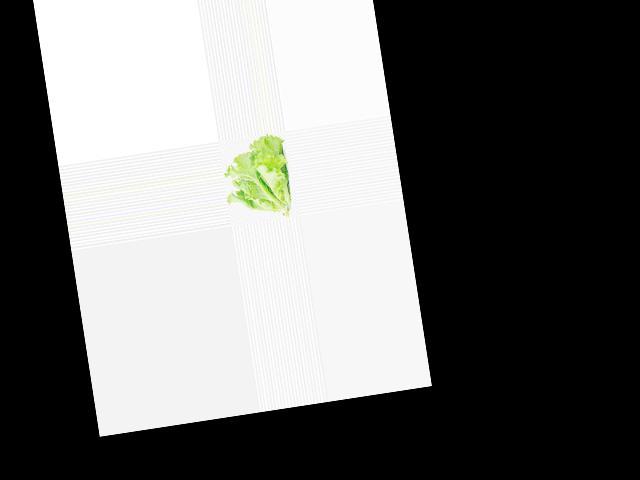lettuce: (218, 133, 293, 226)
